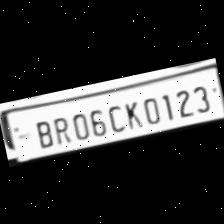0: (136, 92, 164, 126), (65, 108, 90, 141)
1: (156, 88, 176, 121)
2: (168, 84, 194, 119)
3: (188, 80, 212, 114)
6: (85, 104, 108, 137)
B: (29, 115, 56, 149)
C: (102, 100, 126, 133)
K: (119, 96, 144, 130)
R: (47, 112, 71, 145)
